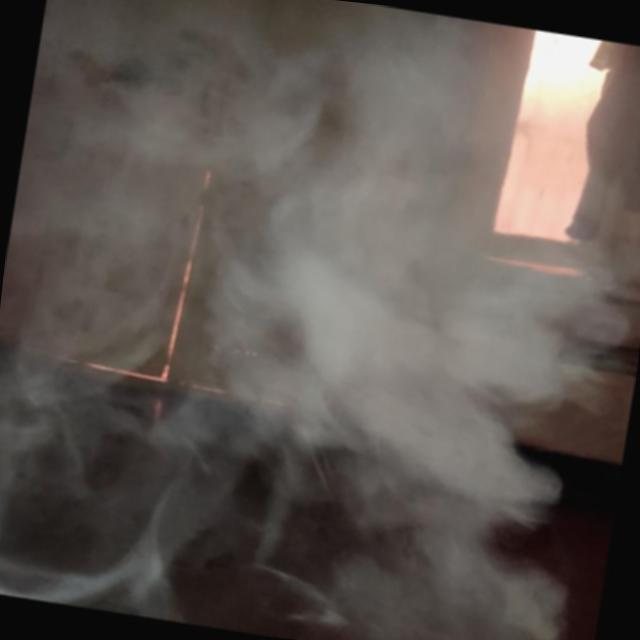smoke: (81, 23, 618, 592)
